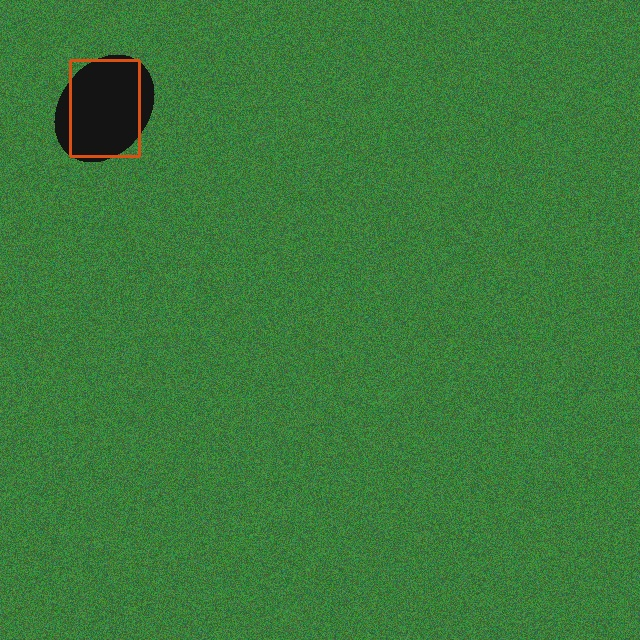blister beetle: (60, 50, 149, 166)
